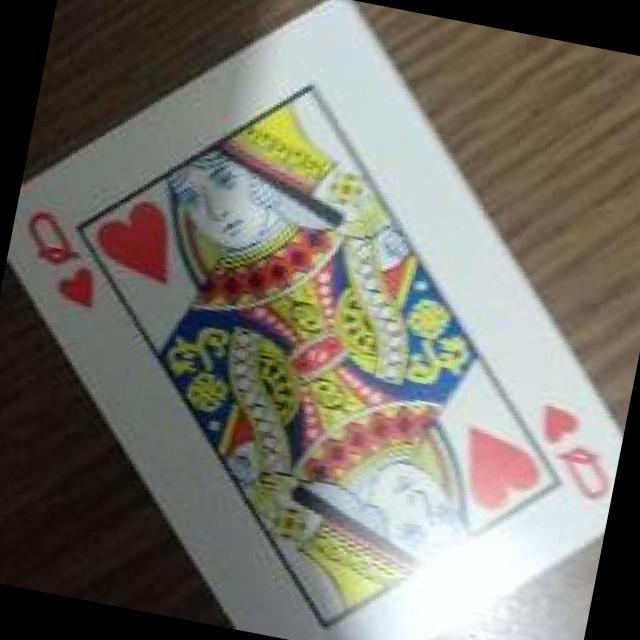Queen of hearts: (7, 0, 619, 640)
